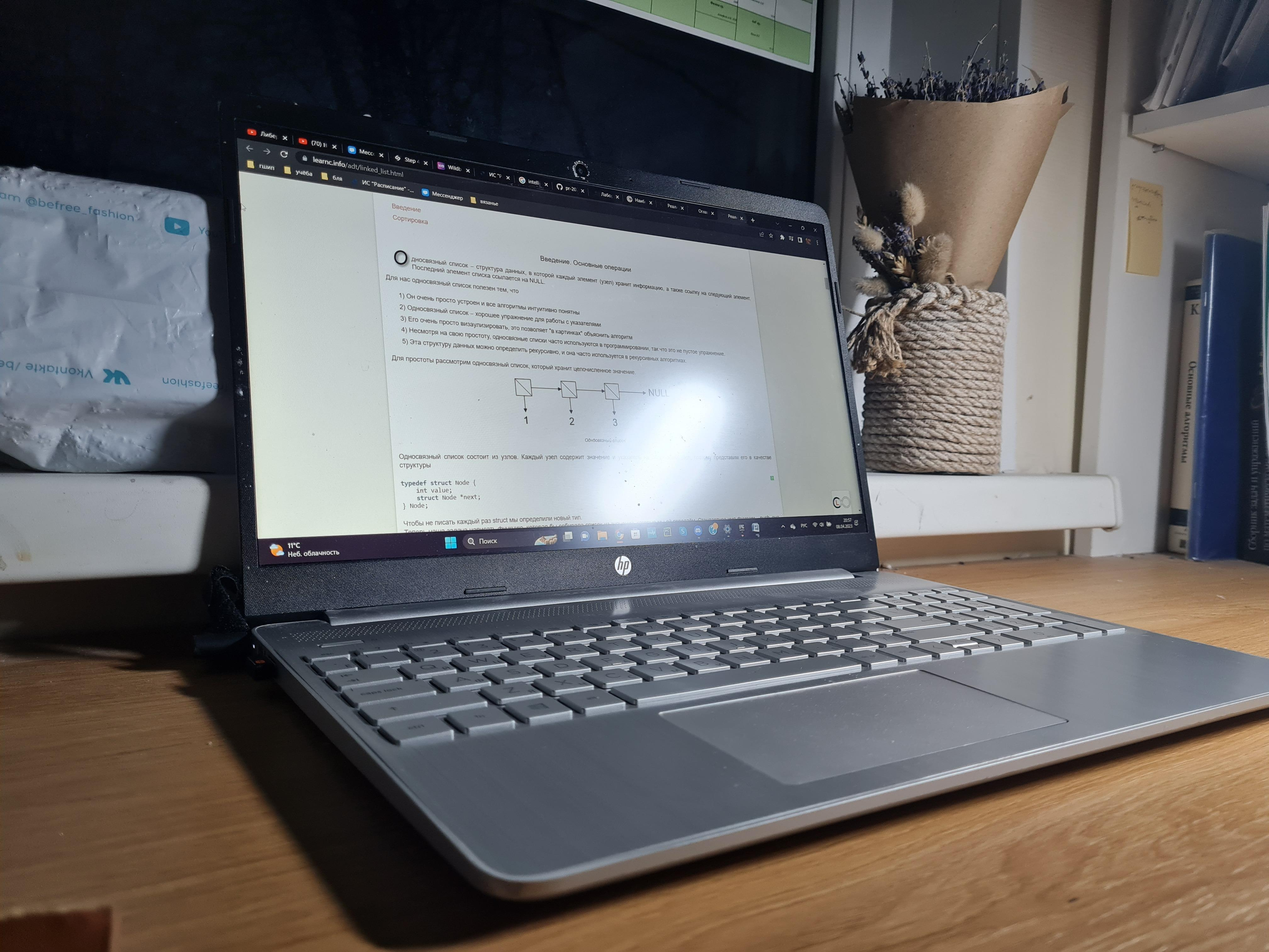monitor: (208, 89, 883, 616)
